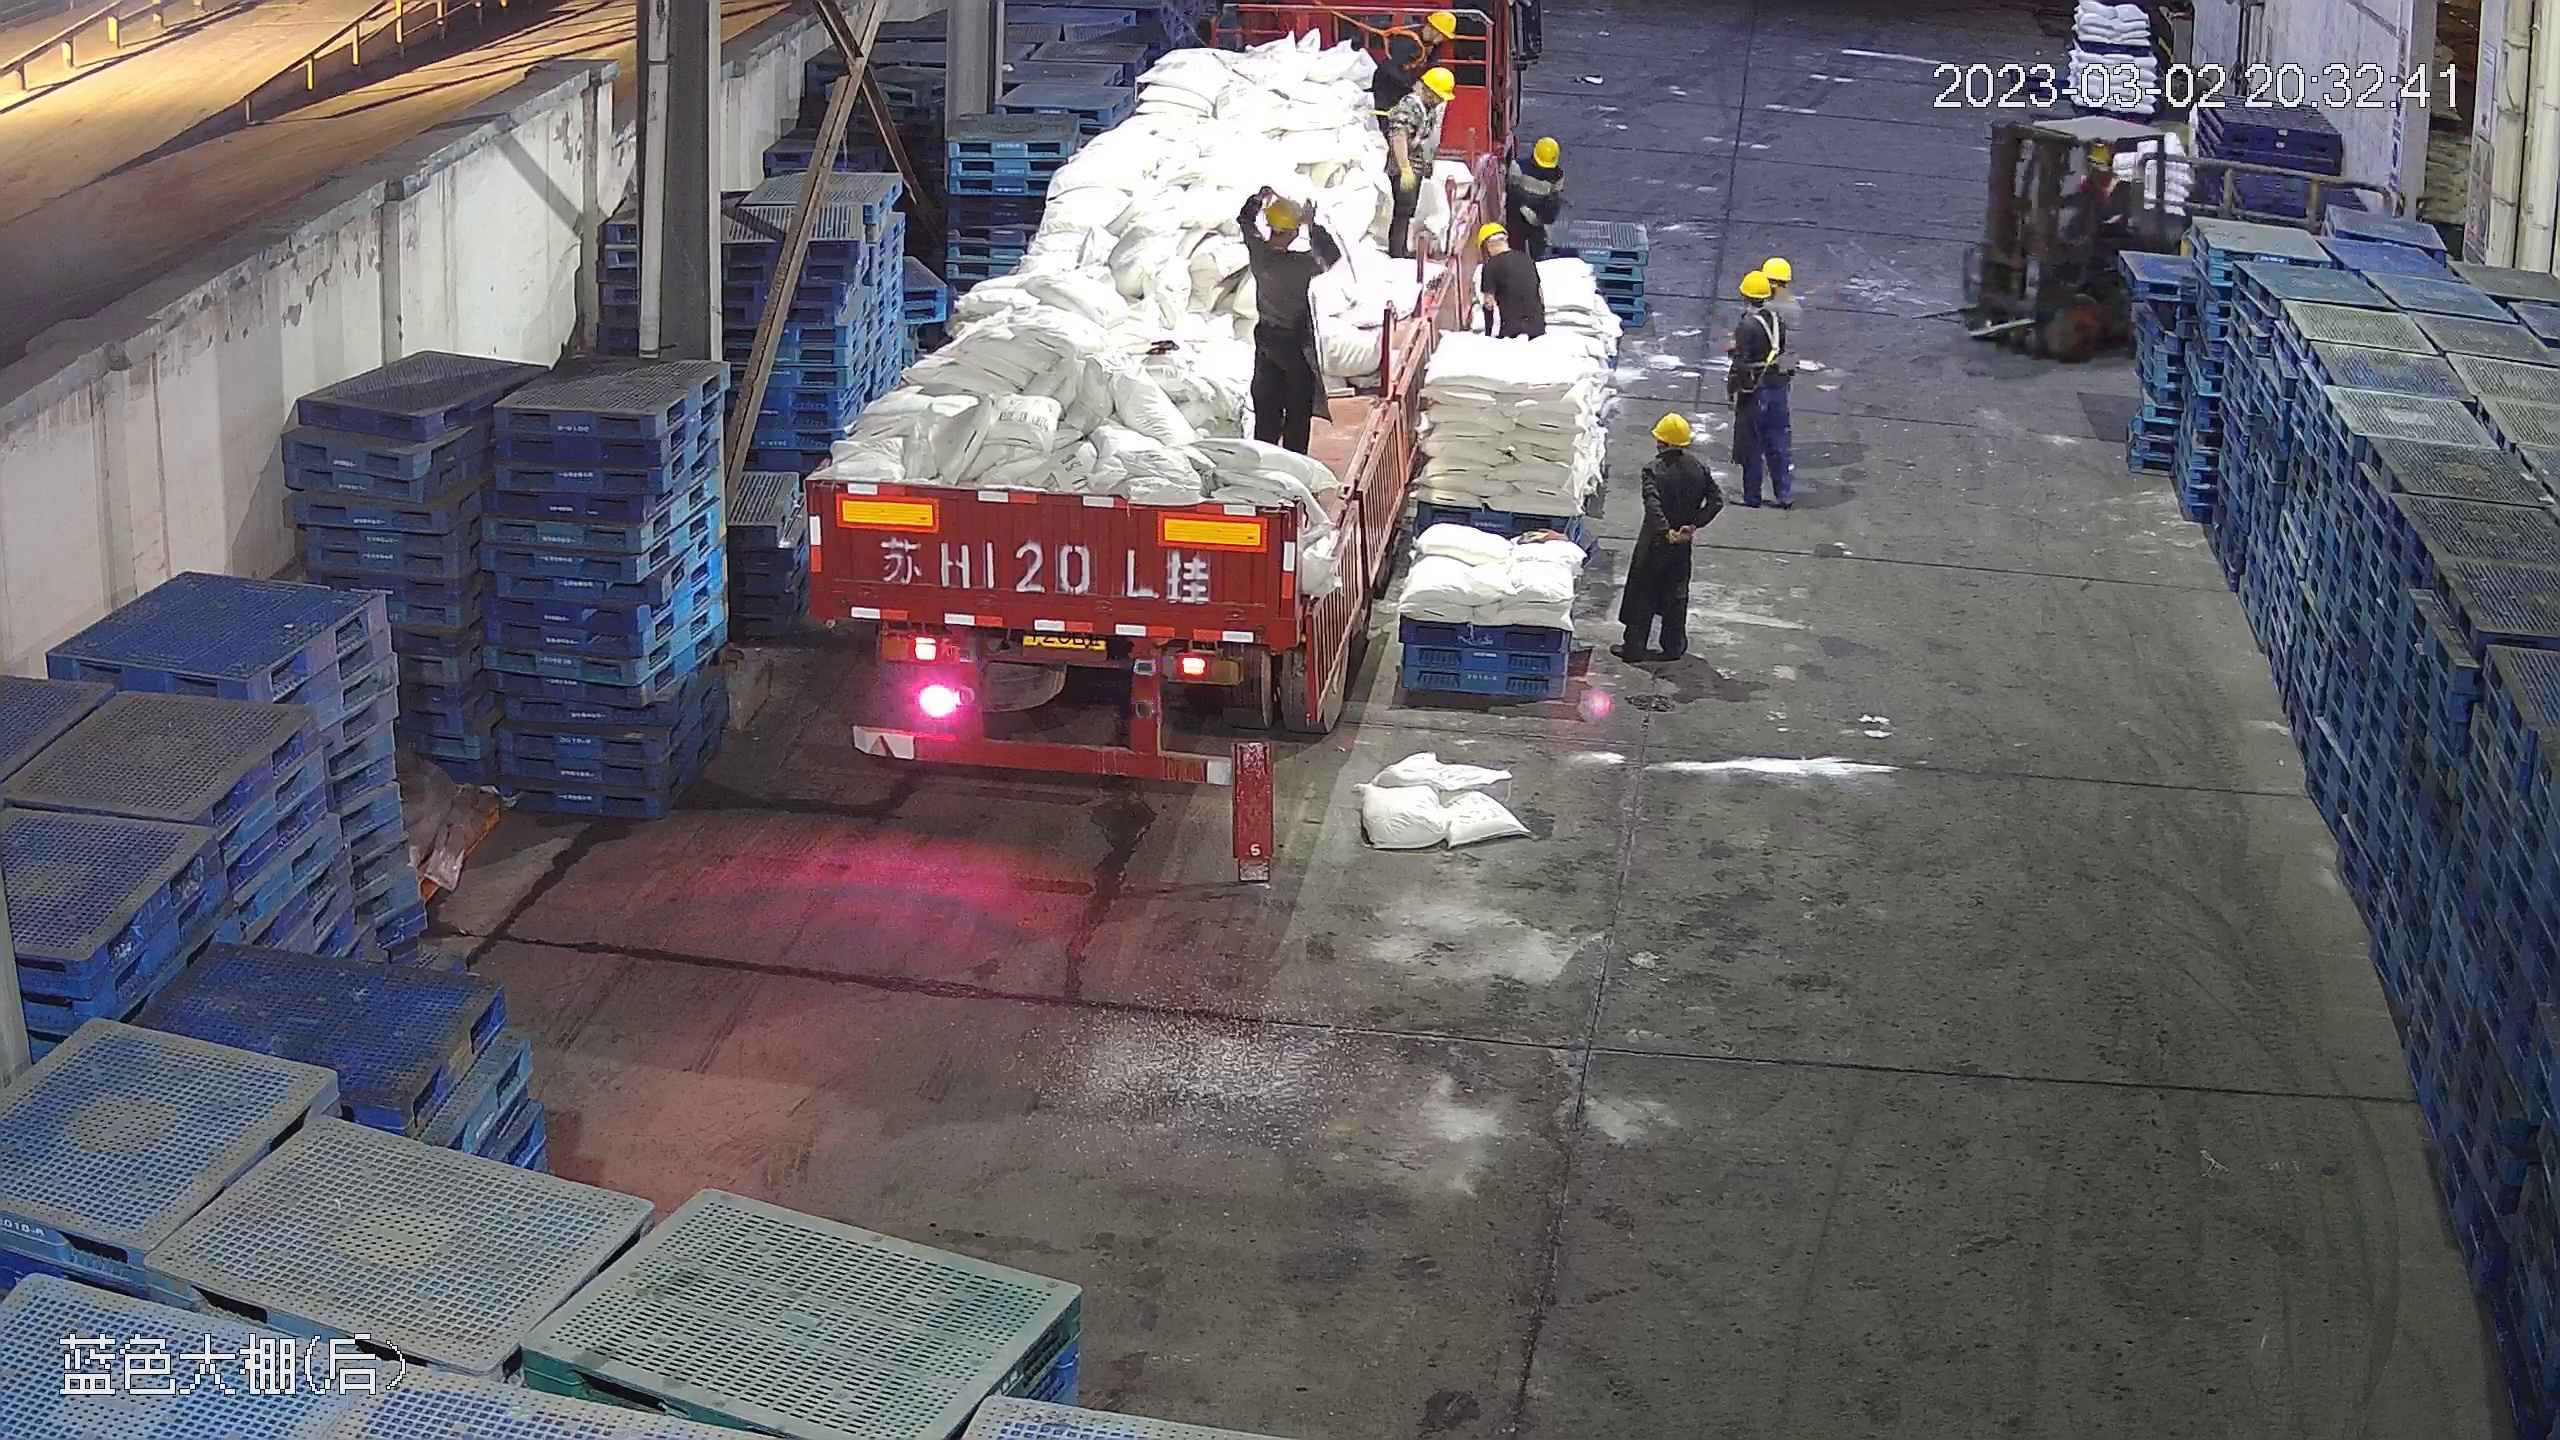belt: (1378, 82, 1433, 147), (1739, 307, 1784, 371), (1375, 21, 1425, 65), (1738, 268, 1773, 301)
head: (1240, 191, 1329, 271), (1639, 411, 1712, 500), (1378, 65, 1455, 138), (1724, 266, 1785, 348), (1499, 133, 1564, 202), (1471, 218, 1536, 286), (1384, 11, 1456, 69)
helmet: (1261, 193, 1309, 237), (1649, 412, 1695, 444), (1423, 9, 1459, 40), (1422, 65, 1454, 100), (1471, 221, 1507, 253), (1530, 134, 1561, 166), (1760, 253, 1793, 281), (2085, 141, 2119, 167)
people: (1227, 189, 1339, 451), (1619, 408, 1718, 665), (1723, 261, 1800, 515), (1371, 51, 1451, 257), (1477, 220, 1550, 342), (1503, 136, 1564, 257)
truck: (799, 7, 1495, 782)
